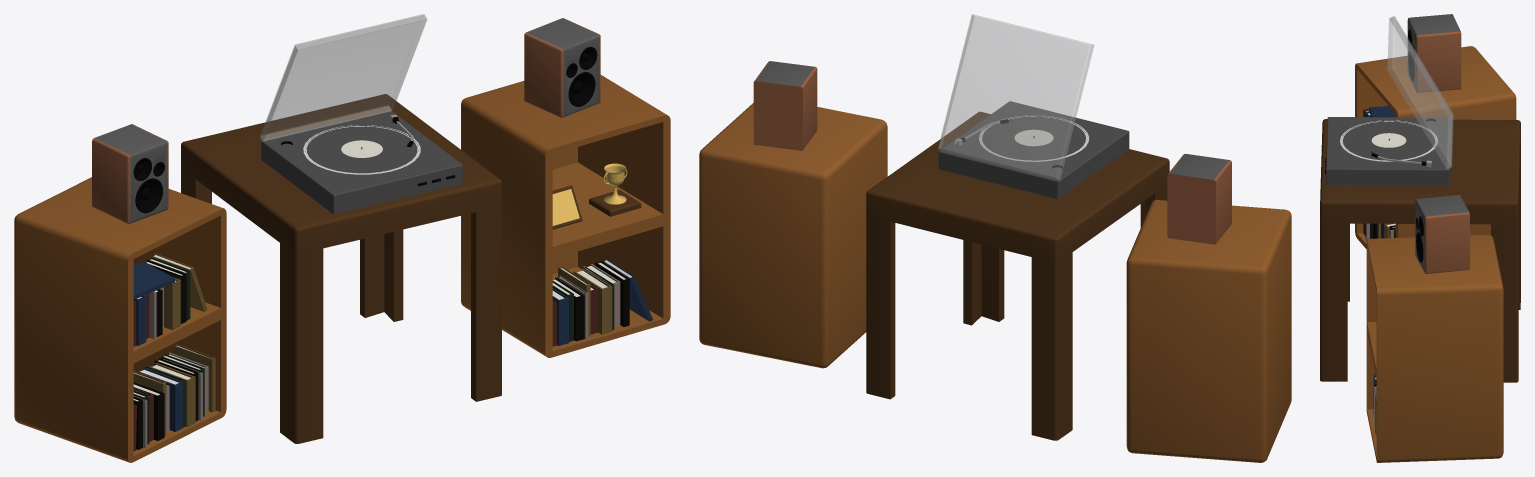
Rendered from entertainment-center.glb.
3 renders of one model, left to right at view 1: azimuth 30°, elevation 25°; view 2: azimuth 150°, elevation 25°; view 3: azimuth 270°, elevation 25°, orthographic. The views are drawn at different scales.
Visible parts, largest first — view 1: Bookshelf.001, End_Table, Bookshelf, Record_Lid, RecordPlayer, Speaker.002, Speaker.001, Cube.044, Cube.052, Cube.058, Cube.083, Cube.071 (+10 smaller); view 2: Bookshelf, Bookshelf.001, End_Table, Record_Lid, RecordPlayer, Speaker.002, Speaker.001, Cylinder.013; view 3: Bookshelf, End_Table, Bookshelf.001, RecordPlayer, Record_Lid, Speaker.001, Speaker.002, Cylinder.013, Cylinder.011, Cube.083.
Part boxes in pixels (box(x1,y1,x2,y2)): Bookshelf.001: box(14, 177, 226, 462); End_Table: box(181, 94, 501, 443); Bookshelf: box(461, 75, 670, 357); Record_Lid: box(260, 14, 427, 141); RecordPlayer: box(261, 110, 462, 214); Speaker.002: box(92, 124, 168, 223); Speaker.001: box(524, 18, 600, 117); Cube.044: box(552, 185, 582, 229); Cube.052: box(573, 268, 612, 334); Cube.058: box(136, 367, 183, 431); Cube.083: box(133, 261, 174, 298); Cube.071: box(173, 344, 215, 412); Bookshelf: box(699, 103, 887, 368); Bookshelf.001: box(1126, 200, 1291, 462); End_Table: box(866, 111, 1169, 440); Record_Lid: box(938, 14, 1094, 179); RecordPlayer: box(938, 101, 1129, 199); Speaker.002: box(1167, 153, 1231, 244); Speaker.001: box(753, 61, 817, 150); Cylinder.013: box(985, 115, 1085, 146); Bookshelf: box(1366, 234, 1503, 462); End_Table: box(1320, 119, 1520, 382); Bookshelf.001: box(1355, 46, 1516, 248); RecordPlayer: box(1326, 117, 1451, 185); Record_Lid: box(1387, 16, 1453, 169); Speaker.001: box(1415, 195, 1469, 273); Speaker.002: box(1407, 14, 1461, 92); Cylinder.013: box(1343, 120, 1430, 147); Cylinder.011: box(1340, 120, 1437, 161); Cube.083: box(1369, 106, 1395, 117).
Size of the model in its own units: 26.9 by 15.44 by 9.37.
21 materials, 1 textured.
